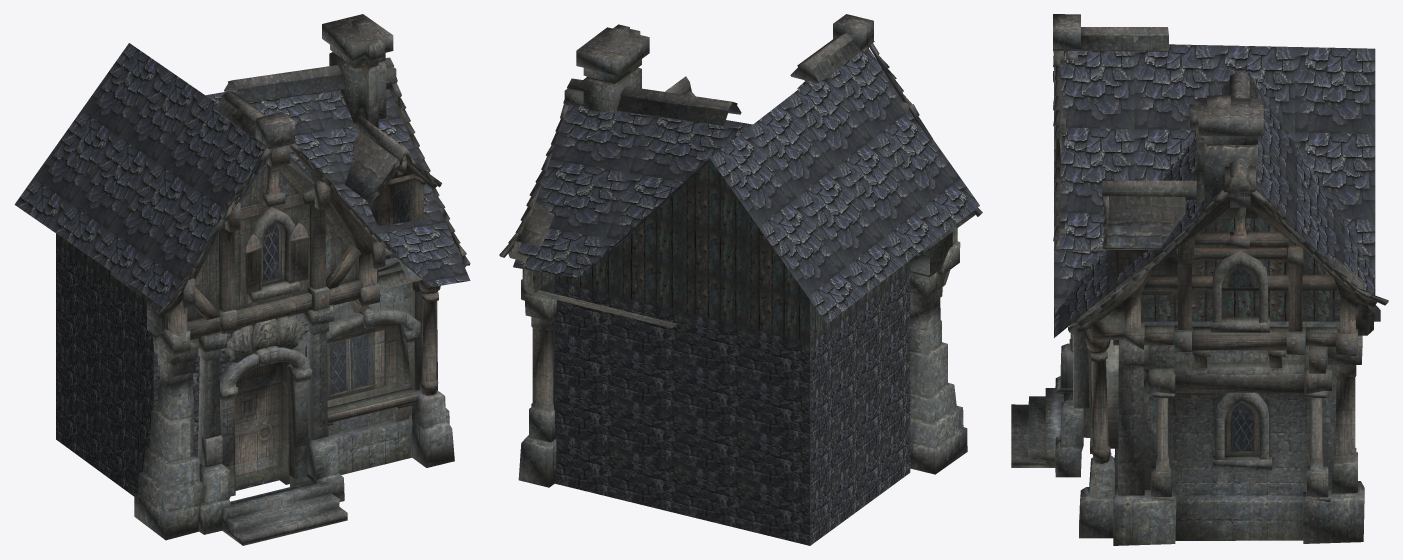
Rendered from building-narrow.glb.
The picture shows the model from 3 angles, left to right: view 1: azimuth 30°, elevation 25°; view 2: azimuth 150°, elevation 25°; view 3: azimuth 270°, elevation 25°; orthographic projection. The views are drawn at different scales.
Parts seen in each view (by area): view 1: tripo_node_e773ba1e-b264-4cc6-a871-ed2ba16fce5d, Reconstructed slate, Reconstructed stone, Reconstructed wood; view 2: Reconstructed stone, Reconstructed slate, tripo_node_e773ba1e-b264-4cc6-a871-ed2ba16fce5d, Reconstructed wood; view 3: tripo_node_e773ba1e-b264-4cc6-a871-ed2ba16fce5d, Reconstructed slate, Reconstructed wood.
Part boxes in pixels (bbox=[...]): tripo_node_e773ba1e-b264-4cc6-a871-ed2ba16fce5d: bbox=[110, 14, 470, 545]; Reconstructed slate: bbox=[14, 43, 470, 307]; Reconstructed stone: bbox=[56, 242, 395, 496]; Reconstructed wood: bbox=[56, 233, 392, 329]; Reconstructed stone: bbox=[555, 270, 910, 545]; Reconstructed slate: bbox=[513, 48, 979, 323]; tripo_node_e773ba1e-b264-4cc6-a871-ed2ba16fce5d: bbox=[499, 14, 982, 487]; Reconstructed wood: bbox=[534, 160, 950, 343]; tripo_node_e773ba1e-b264-4cc6-a871-ed2ba16fce5d: bbox=[1011, 14, 1388, 545]; Reconstructed slate: bbox=[1054, 44, 1375, 337]; Reconstructed wood: bbox=[1141, 188, 1380, 321].
Bounding box in the file's own units: 8 × 9.57 × 7.63.
Materials: 4 (4 with a texture image).
